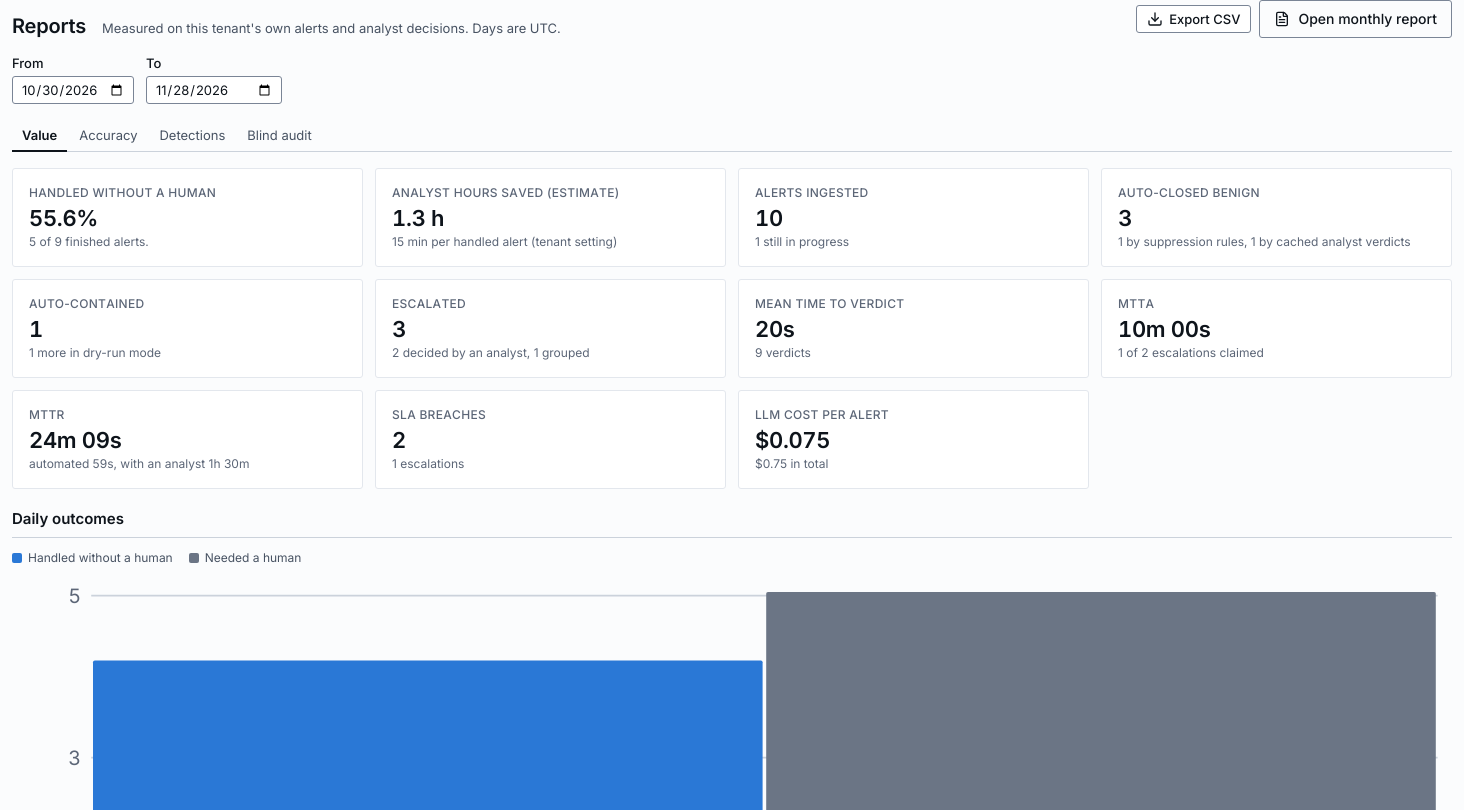
Scenario: ReportsPage › hides the proposal from viewers
Click the tab "Detections": click(192, 136) x1=149 y1=120 x2=235 y2=152
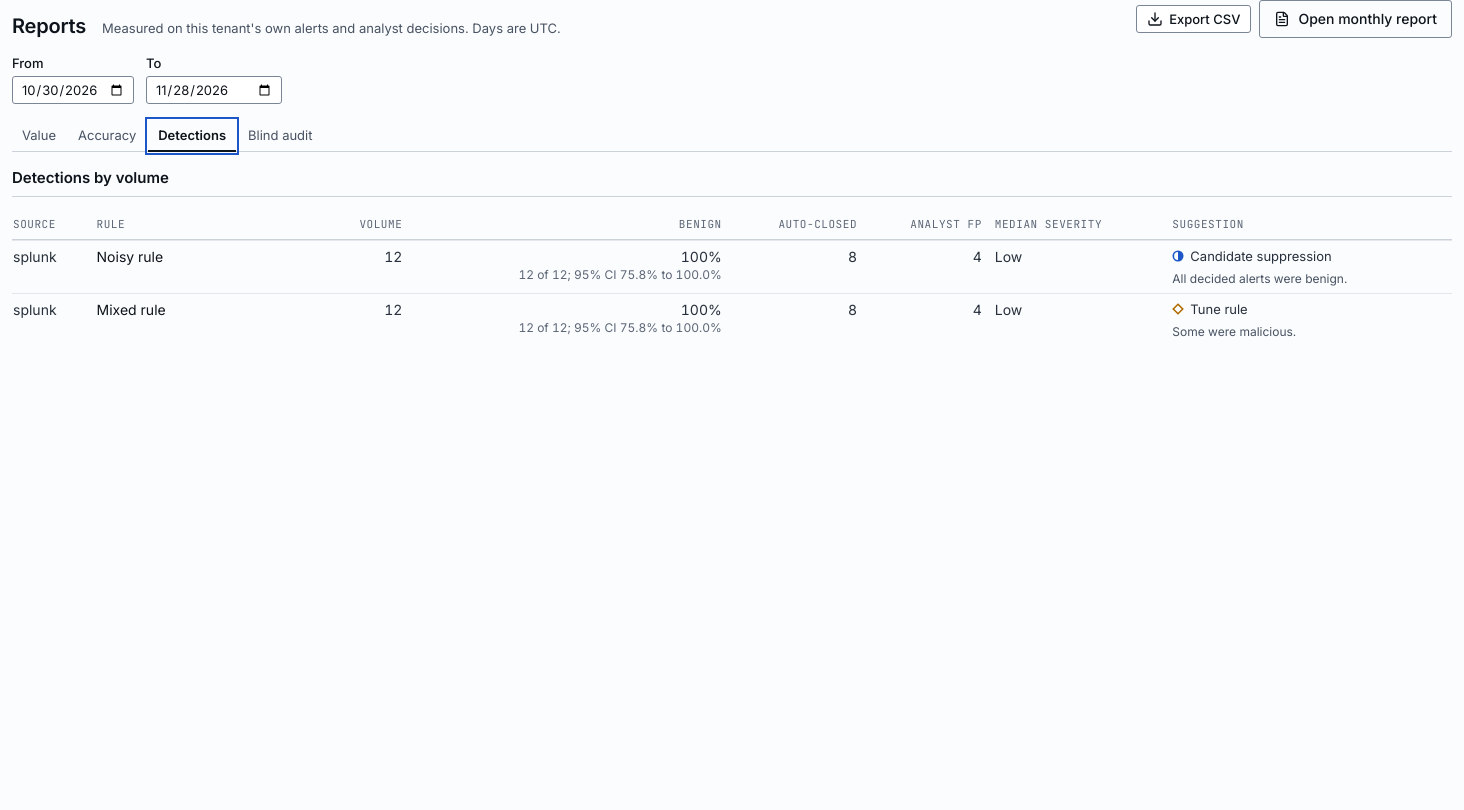
Result: the text "Noisy rule" is shown at x1=96 y1=240 x2=332 y2=294
Result: the text "12 of 12; 95% CI 75.8% to 100.0%" is shown 2 times at x1=518 y1=267 x2=722 y2=282; x1=518 y1=320 x2=722 y2=335
